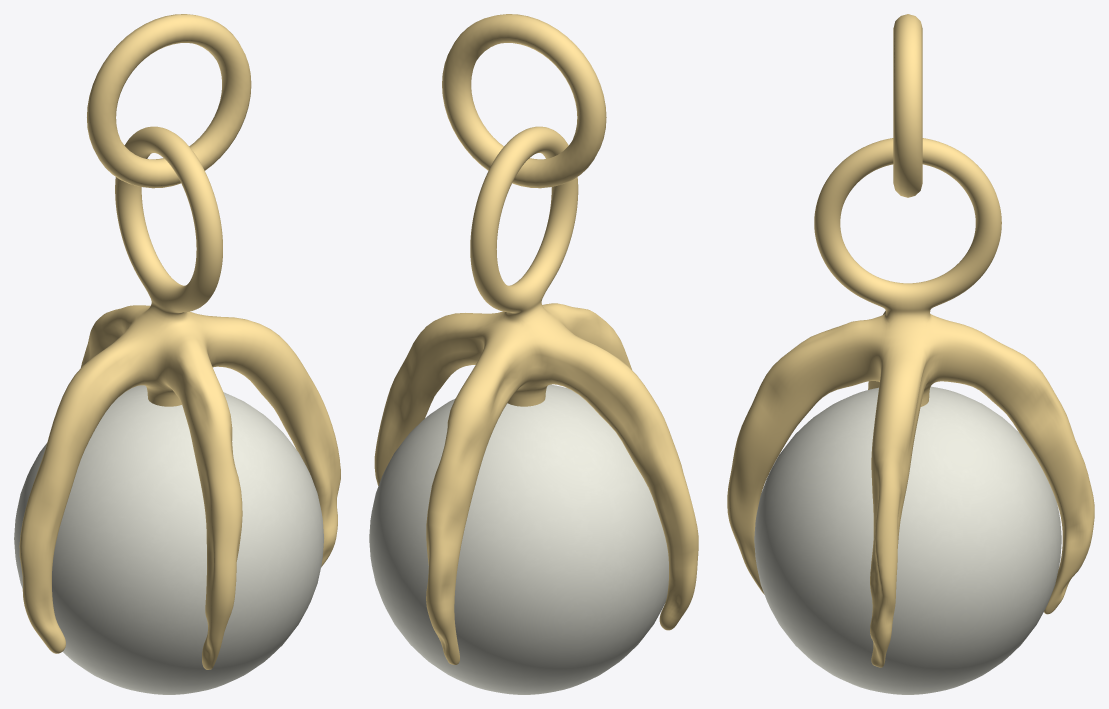
Rendered from pearl_drop.glb.
3 views of the same model, side by side, from view 1: azimuth 30°, elevation 25°; view 2: azimuth 150°, elevation 25°; view 3: azimuth 270°, elevation 25° (orthographic).
Parts seen in each view (by area): view 1: dem_drop_low, pearl; view 2: pearl, dem_drop_low; view 3: pearl, dem_drop_low.
Boxes of the visible parts, x1,y1,x2,y2 form: dem_drop_low: [19, 14, 340, 669]; pearl: [14, 385, 323, 694]; pearl: [369, 384, 668, 694]; dem_drop_low: [374, 14, 698, 664]; pearl: [754, 386, 1061, 694]; dem_drop_low: [727, 14, 1094, 667].
Size of the model in its own units: 0.0049 by 0.00972 by 0.00491.
2 materials, 2 textured.
